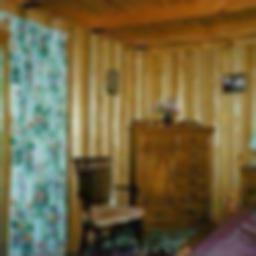Armario: (139, 128, 210, 227)
